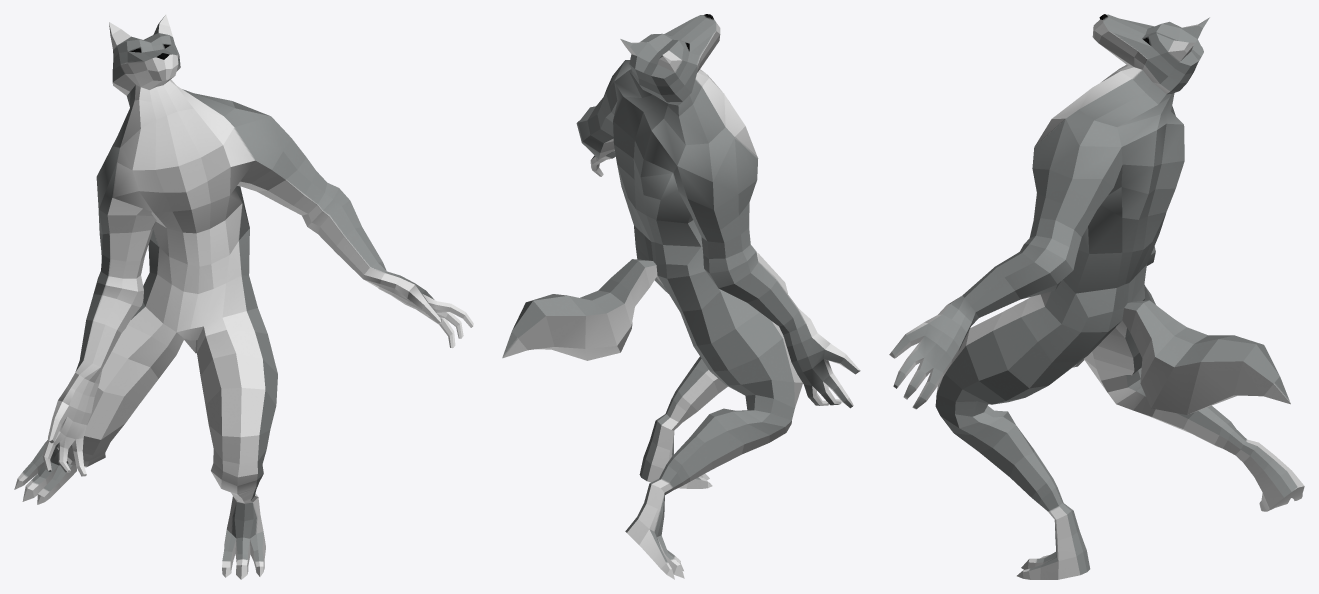
Rendered from WolfDead(14).obj.
3 renders of one model, left to right at view 1: azimuth 30°, elevation 25°; view 2: azimuth 150°, elevation 25°; view 3: azimuth 270°, elevation 25°, orthographic. The views are drawn at different scales.
Visible parts, largest first — view 1: Box001; view 2: Box001; view 3: Box001.
Part boxes in pixels (box(x1,y1,x2,y2)): Box001: box(14, 14, 473, 579); Box001: box(502, 14, 860, 579); Box001: box(889, 14, 1304, 579).
Bounding box in the file's own units: 99.1 × 139 × 98.12.
